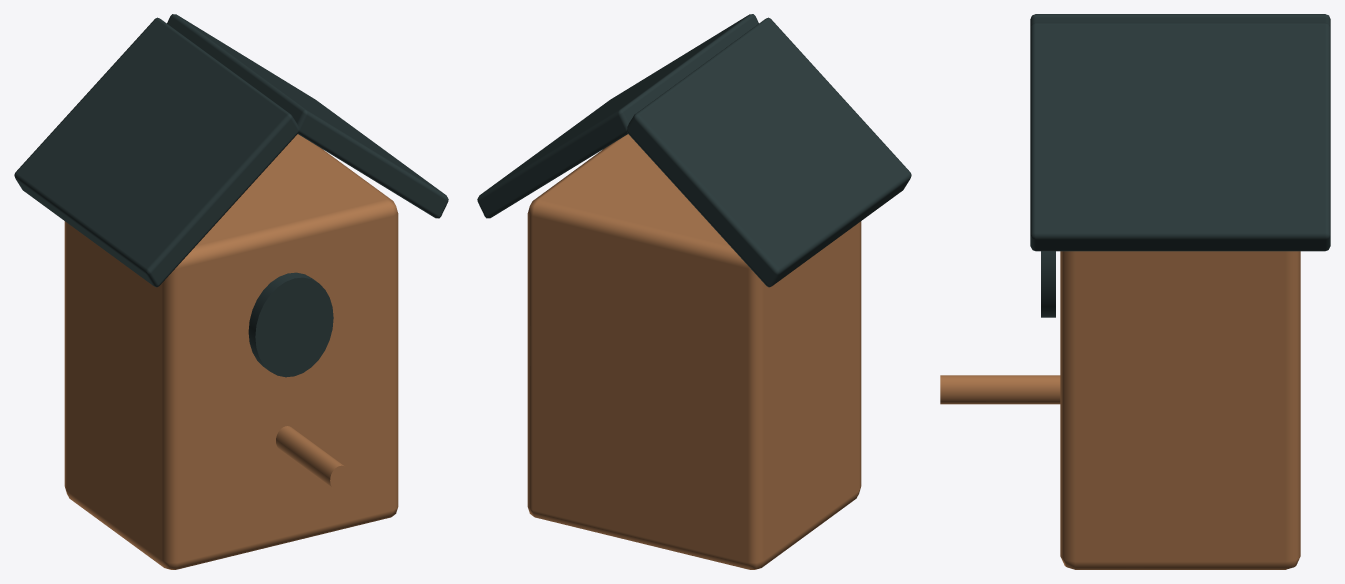
File: wp-nichoir.glb
3 views of the same model, side by side, from view 1: azimuth 30°, elevation 25°; view 2: azimuth 150°, elevation 25°; view 3: azimuth 270°, elevation 25° (orthographic). The views are drawn at different scales.
Visible parts, largest first — view 1: wp-nichoir; view 2: wp-nichoir; view 3: wp-nichoir.
Boxes of the visible parts, <box> form: wp-nichoir: <box>14,14,448,569</box>; wp-nichoir: <box>477,14,911,569</box>; wp-nichoir: <box>940,14,1330,569</box>.
Bounding box in the file's own units: 0.2477 × 0.3486 × 0.25.
